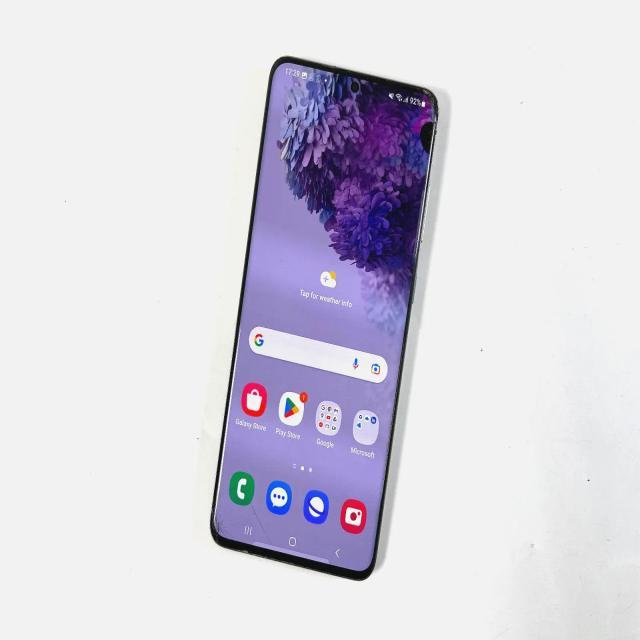dead pixel: (403, 102, 452, 174)
screen crack: (207, 450, 278, 568)
